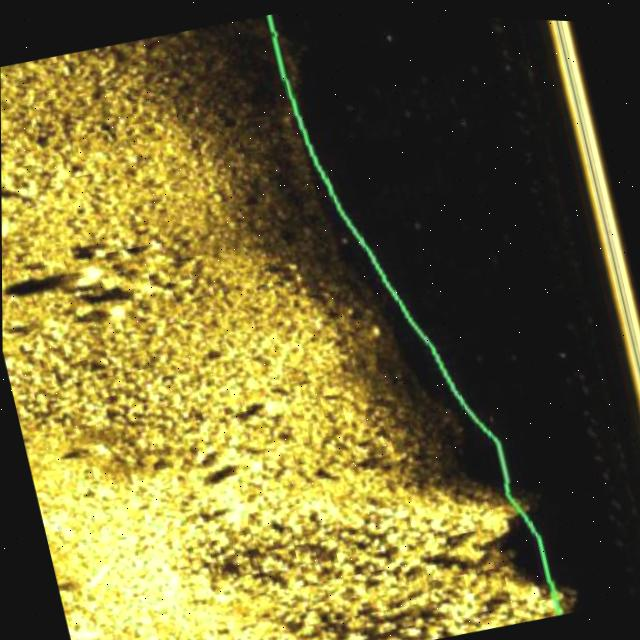bedrock group: (0, 0, 571, 640)
